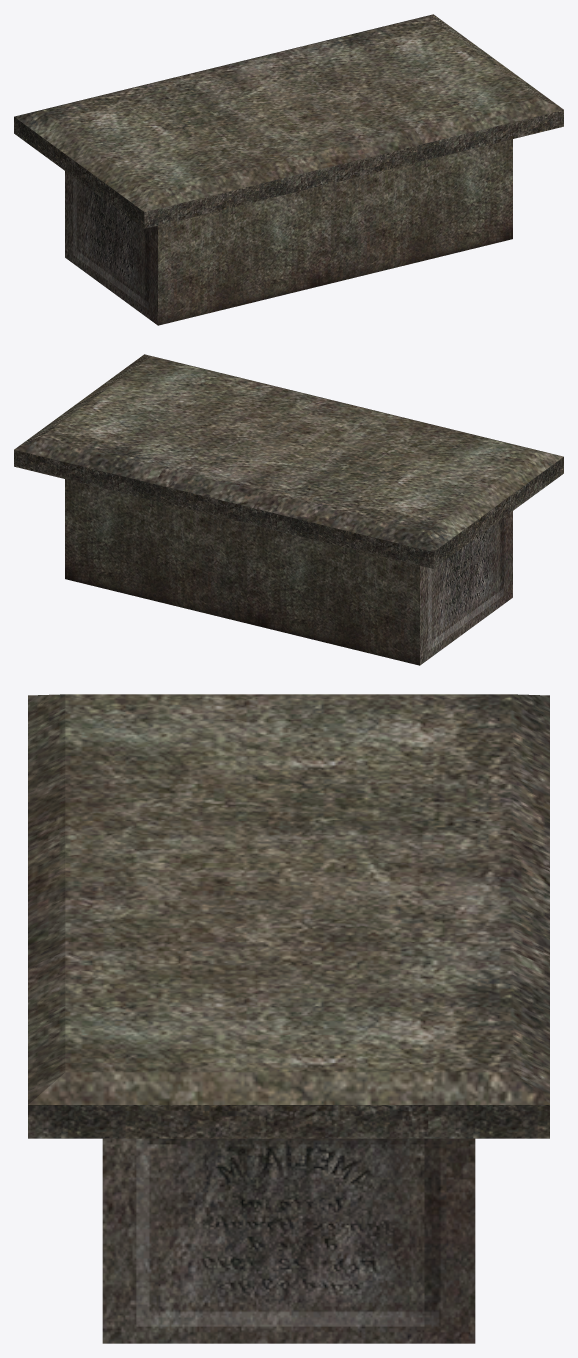
Rendered from tombstone_med_01.fbx.
The picture shows the model from 3 angles, top to bottom: view 1: azimuth 30°, elevation 25°; view 2: azimuth 150°, elevation 25°; view 3: azimuth 270°, elevation 25°; orthographic projection. The views are drawn at different scales.
Parts seen in each view (by area): view 1: mesh_0, mesh_2, mesh_1; view 2: mesh_0, mesh_2, mesh_1; view 3: mesh_0, mesh_1.
Part boxes in pixels (x1=…): mesh_0: x1=14, y1=14, x2=563, y2=228; mesh_2: x1=158, y1=139, x2=512, y2=325; mesh_1: x1=65, y1=171, x2=157, y2=325; mesh_0: x1=14, y1=354, x2=563, y2=568; mesh_2: x1=65, y1=479, x2=419, y2=665; mesh_1: x1=420, y1=511, x2=512, y2=665; mesh_0: x1=28, y1=694, x2=549, y2=1138; mesh_1: x1=102, y1=1138, x2=475, y2=1343.
Size of the model in its own units: 260 by 85 by 140.
2 materials, 2 textured.
